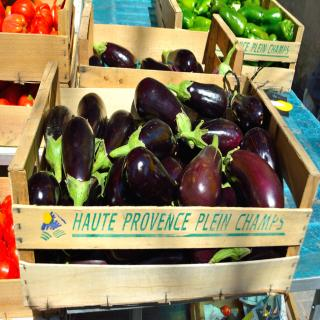Bell pepper: (0, 0, 62, 34)
